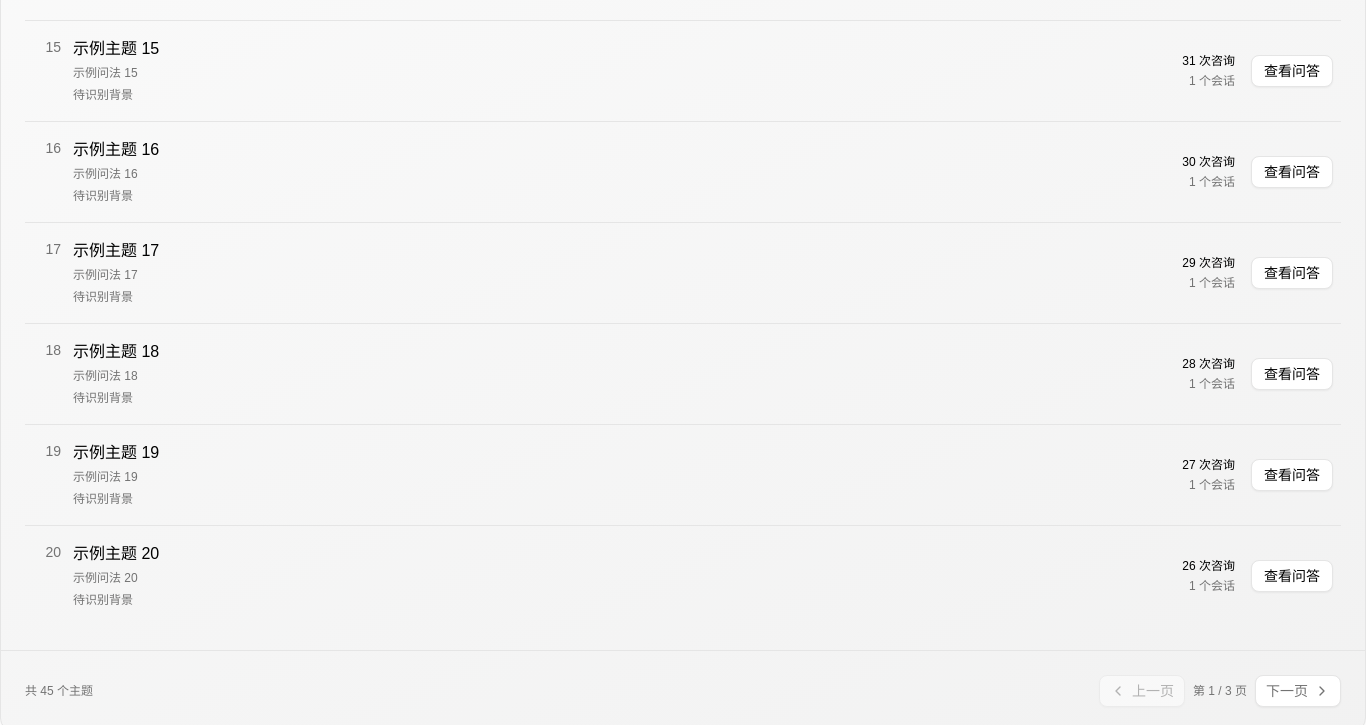
Test: VOC frequency ranking pagination › opens all trend filters when the comparison range is unavailable and resets pagination
(page scrolled)
Check: the text "第 1 / 3 页" is shown, box [1193,683,1247,699]
What coordinates should you click on to do the following:
click the button "下一页"
I would click on:
 (1298, 691)
Its box is [1255,675,1341,707].
(page scrolled)
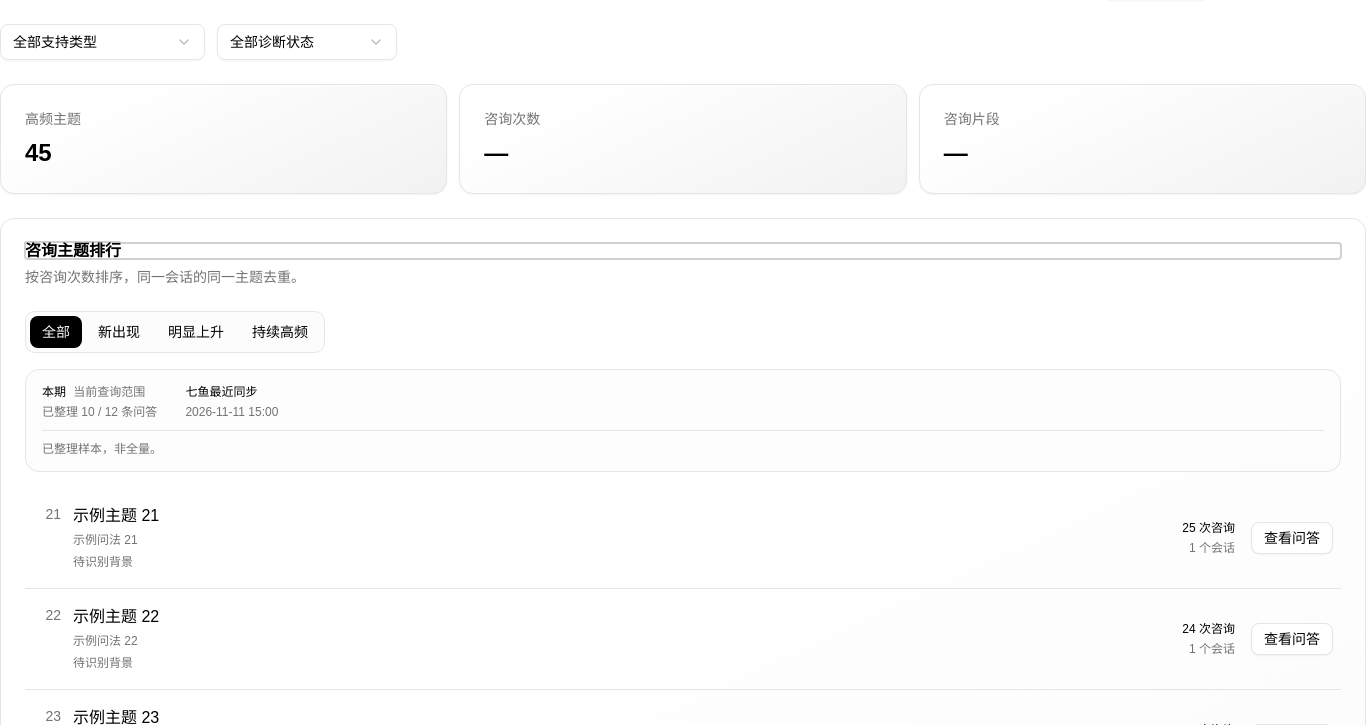
What coordinates should you click on to do the following:
click the button "新出现"
I would click on:
 (119, 332)
Its box is [86,316,152,348].
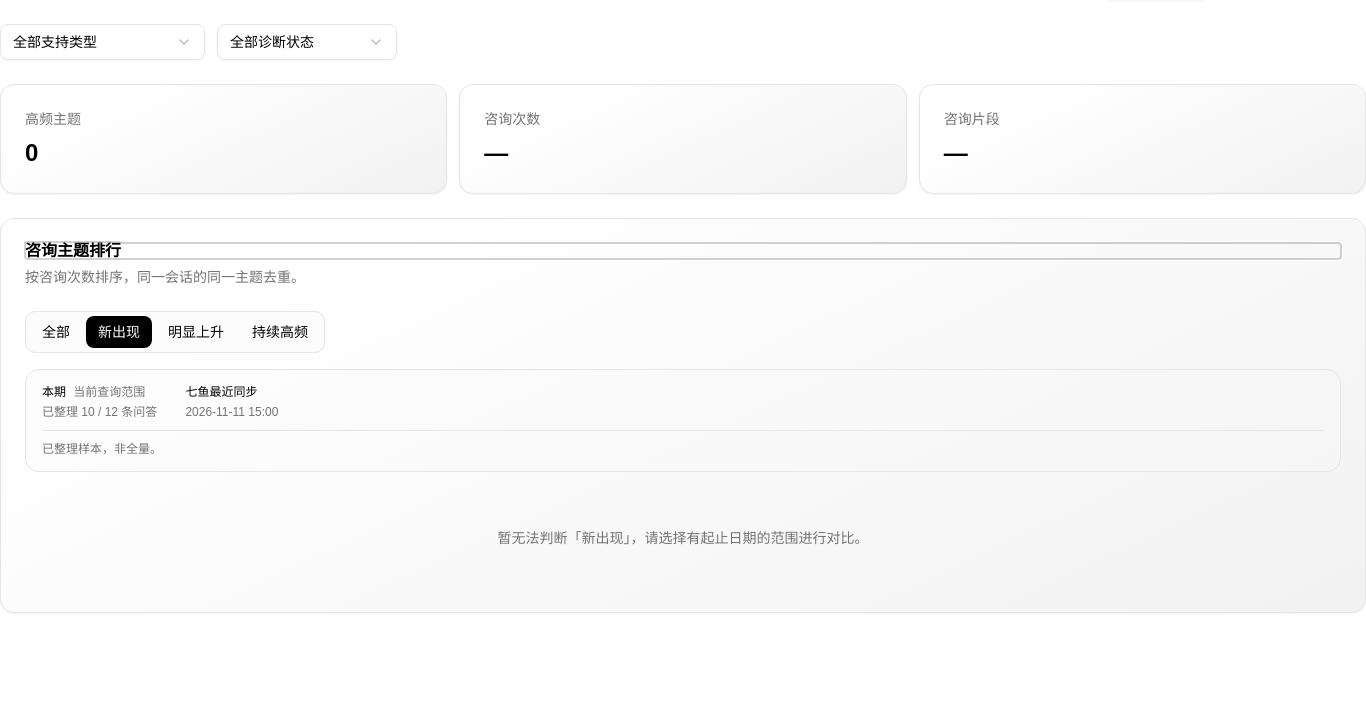
Check: the button "新出现" is pressed, box [86,316,152,348]
What coordinates should you click on to do the following:
click the button "明显上升"
I would click on:
 (196, 332)
Its box is [156,316,236,348].
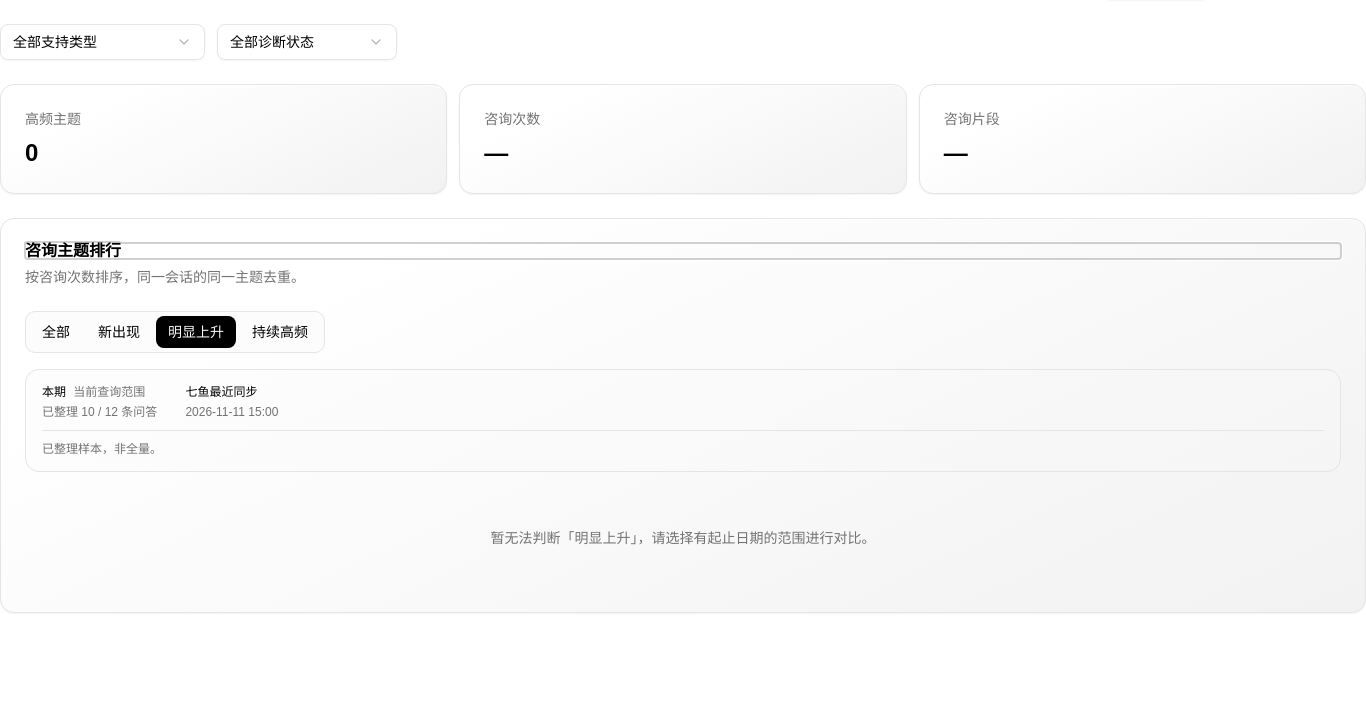
Check: the button "明显上升" is pressed, box [156,316,236,348]
What coordinates should you click on to do the following:
click the button "持续高频"
I would click on:
 (280, 332)
Its box is [240,316,320,348].
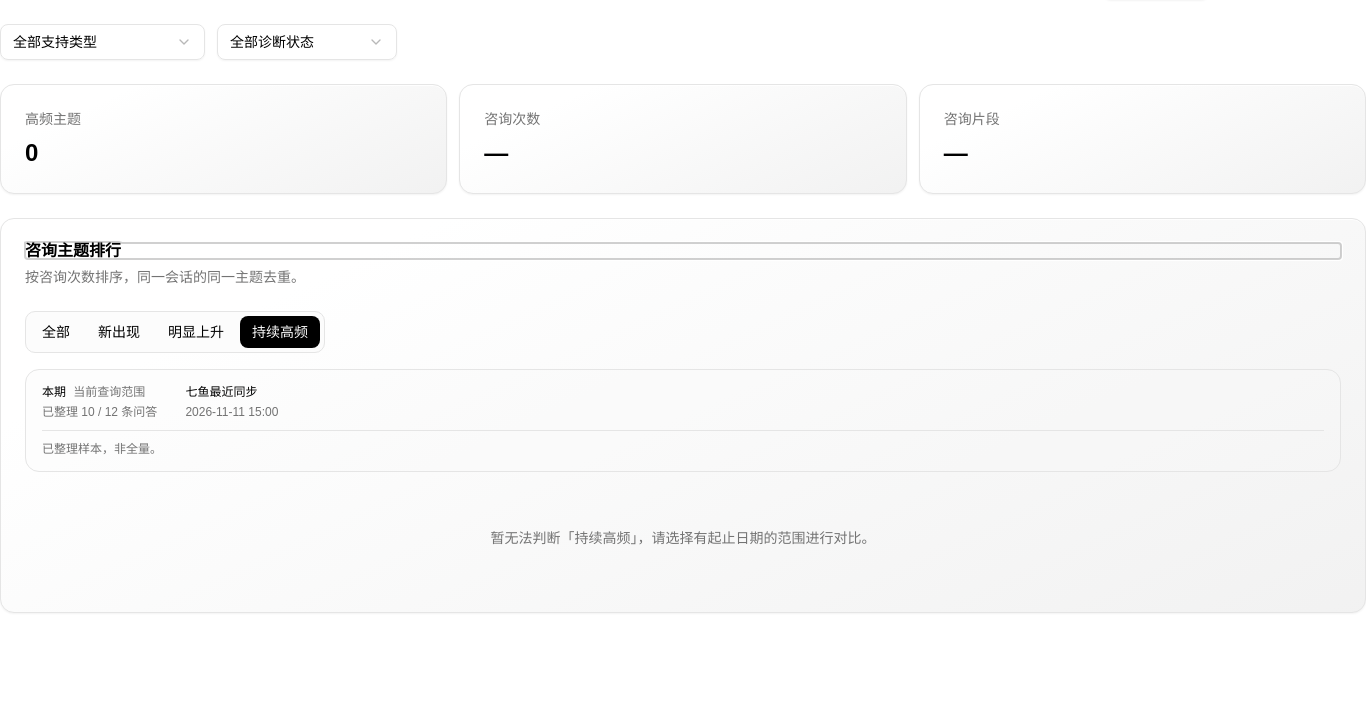
Check: the button "持续高频" is pressed, box [240,316,320,348]
What coordinates should you click on to do the following:
click the button "全部"
I would click on:
 (56, 332)
Its box is [30,316,82,348].
(page scrolled)
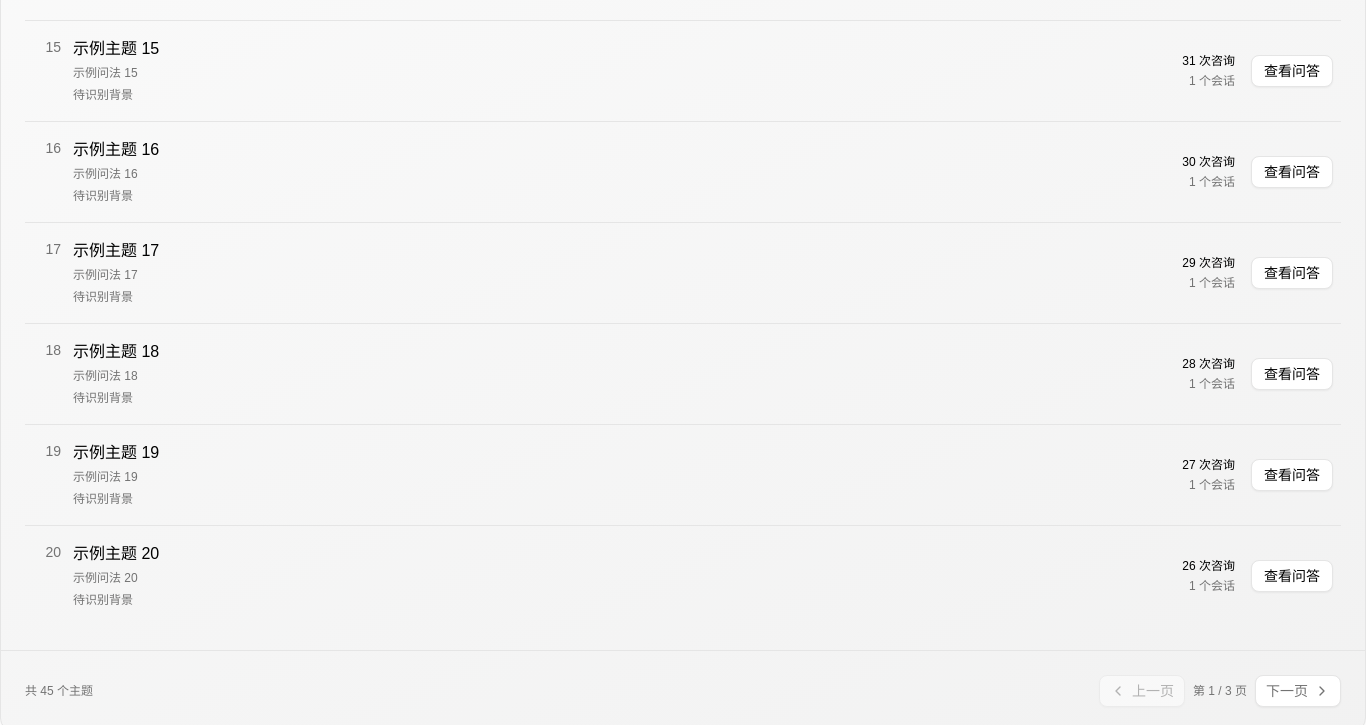
Check: the text "第 1 / 3 页" is shown, box [1193,683,1247,699]
